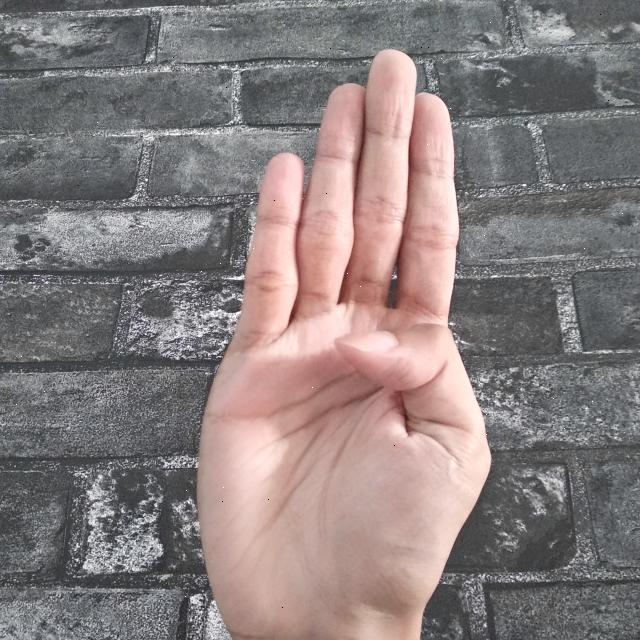B: (186, 46, 501, 640), (195, 42, 496, 640)
